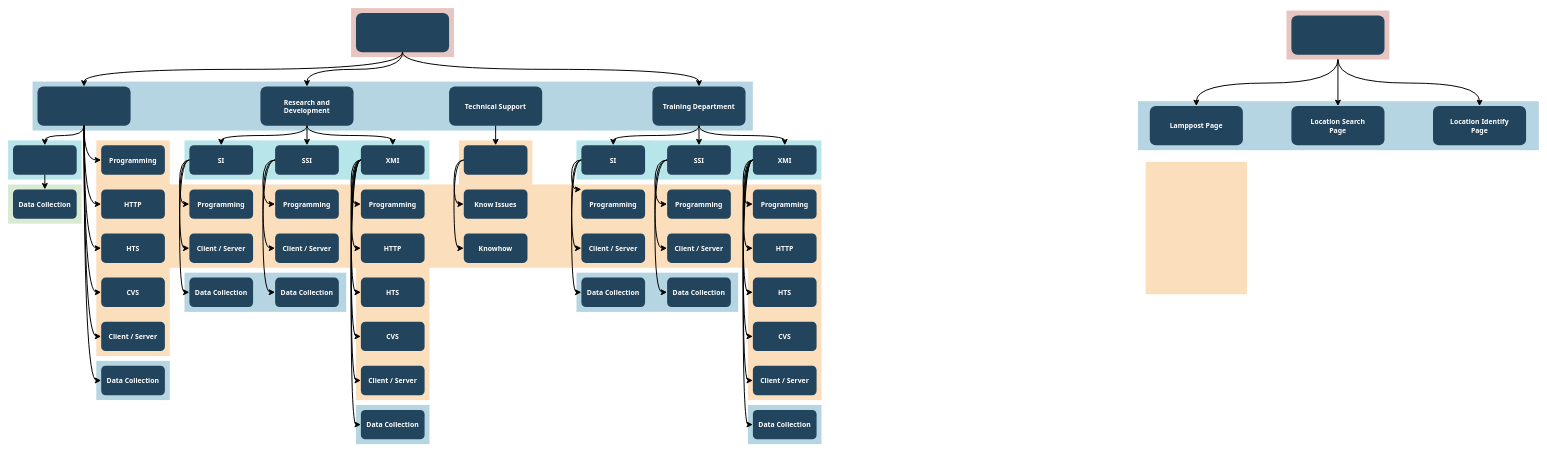
This 1547x452 diagram has some shape labels left out. Here are the shapes that lost their labels. From the top down, the centre of each, then its label:
point (402, 32): Head of Development
point (1337, 34): Hong Kong Geo Helper App
point (83, 105): Human Resources
point (44, 159): Regular Report
point (495, 159): FAQ
